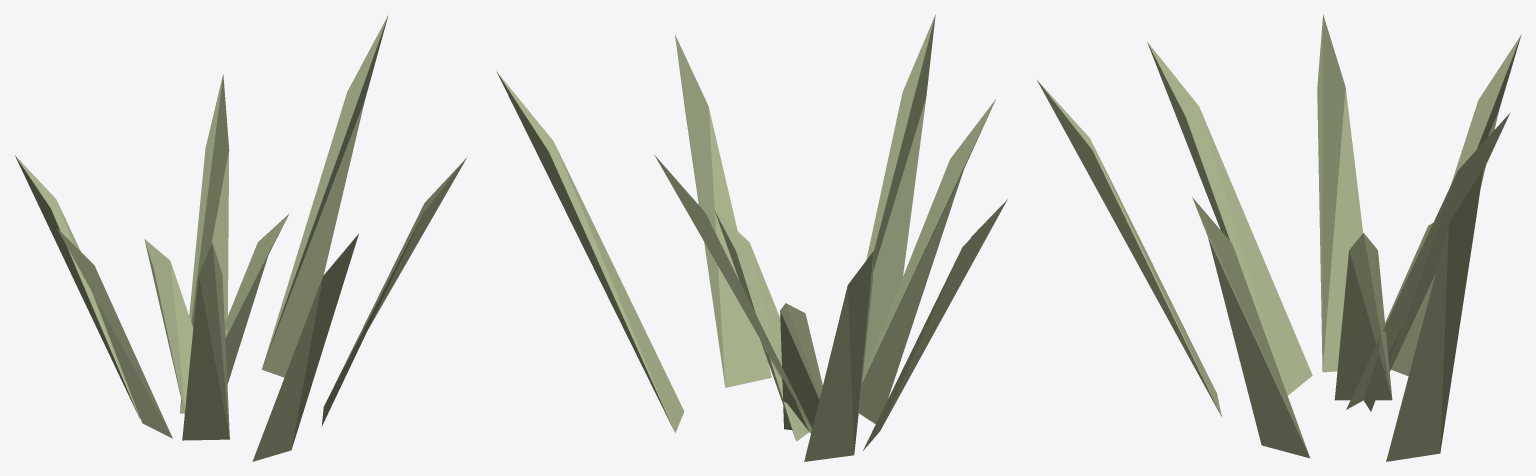
The model's file is SM_Grass_1_UV10000.fbx.
3 views of the same model, side by side, from view 1: azimuth 30°, elevation 25°; view 2: azimuth 150°, elevation 25°; view 3: azimuth 270°, elevation 25° (orthographic). The views are drawn at different scales.
Parts seen in each view (by area): view 1: SM_Grass_1_UV10000; view 2: SM_Grass_1_UV10000; view 3: SM_Grass_1_UV10000.
Boxes of the visible parts, x1,y1,x2,y2 form: SM_Grass_1_UV10000: (15,15,466,461); SM_Grass_1_UV10000: (496,14,1007,461); SM_Grass_1_UV10000: (1037,14,1521,461).
Size of the model in its own units: 154 by 134 by 114.
